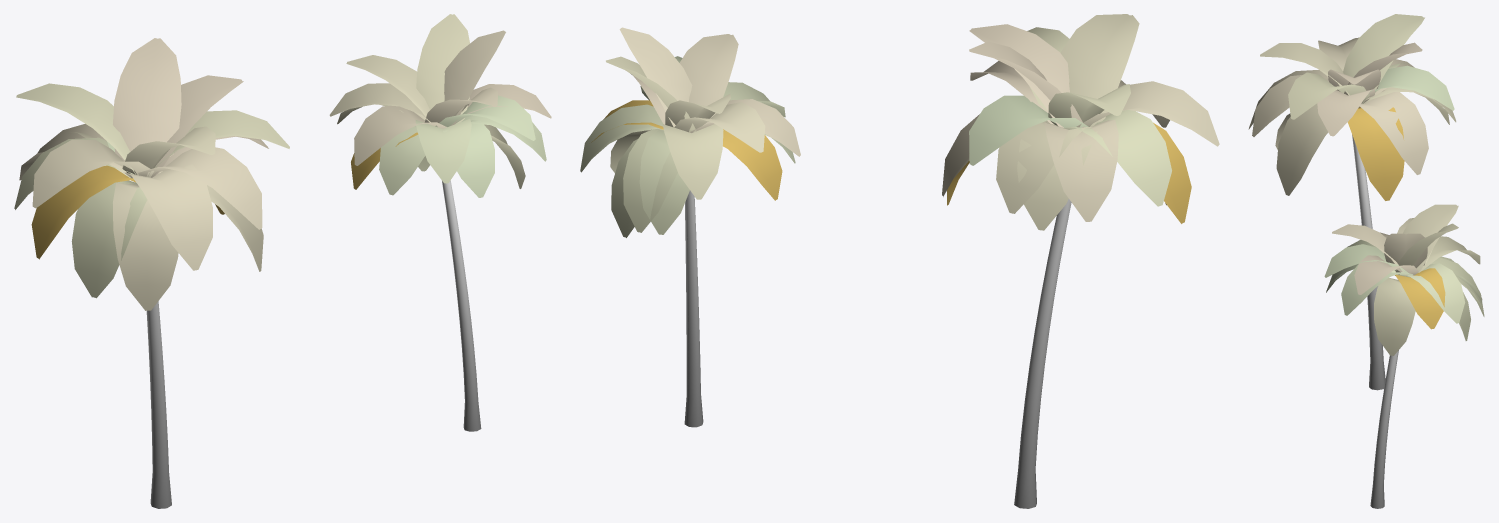
Rendered from Palm.fbx.
3 views of the same model, side by side, from view 1: azimuth 30°, elevation 25°; view 2: azimuth 150°, elevation 25°; view 3: azimuth 270°, elevation 25° (orthographic). The views are drawn at different scales.
Visible parts, largest first — view 1: Palm_A_LOD0, Palm_B_LOD0; view 2: Palm_A_LOD0, Palm_B_LOD0; view 3: Palm_A_LOD0, Palm_B_LOD0.
Boxes of the visible parts, x1,y1,x2,y2 form: Palm_A_LOD0: (14,38,289,508); Palm_B_LOD0: (329,14,551,431); Palm_A_LOD0: (942,14,1219,508); Palm_B_LOD0: (580,27,800,427); Palm_A_LOD0: (1248,14,1456,390); Palm_B_LOD0: (1324,204,1484,508).
Size of what is drawn, in the model's own units: 20.75 by 16.33 by 10.11.
